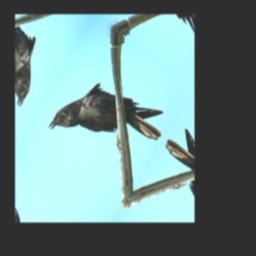Crow: (47, 57, 173, 189)
